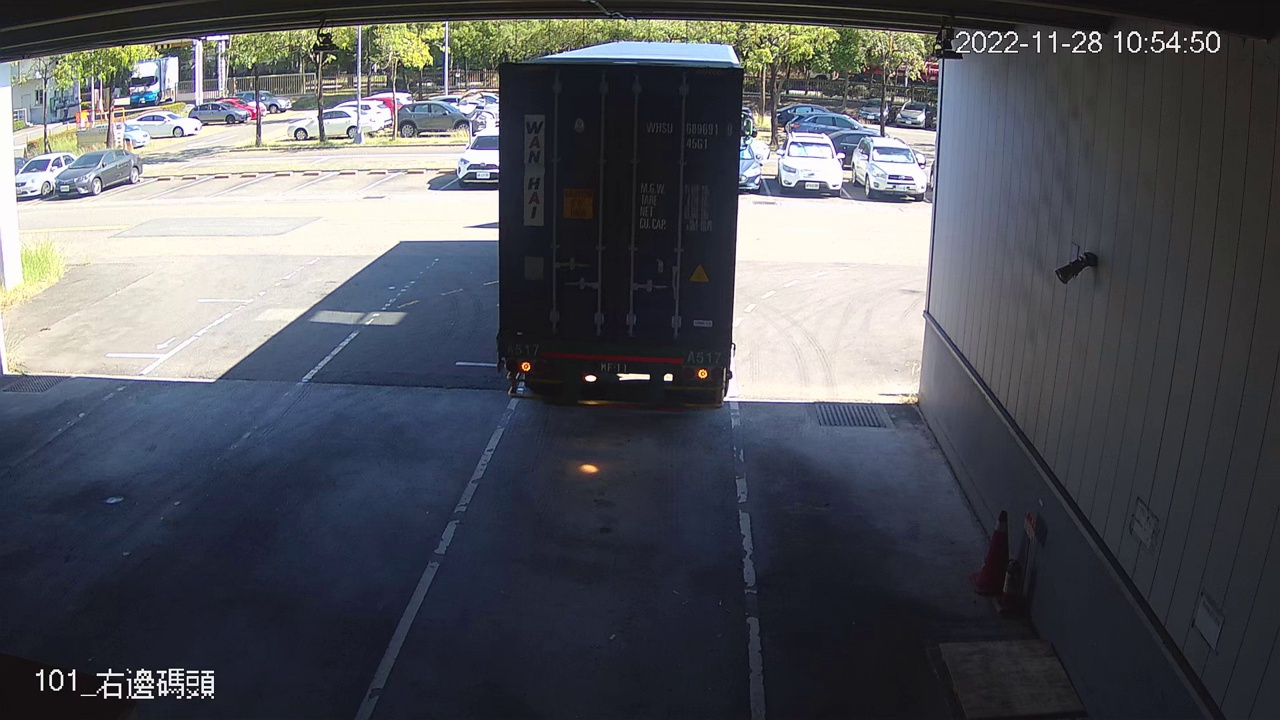container: (643, 114, 736, 156)
